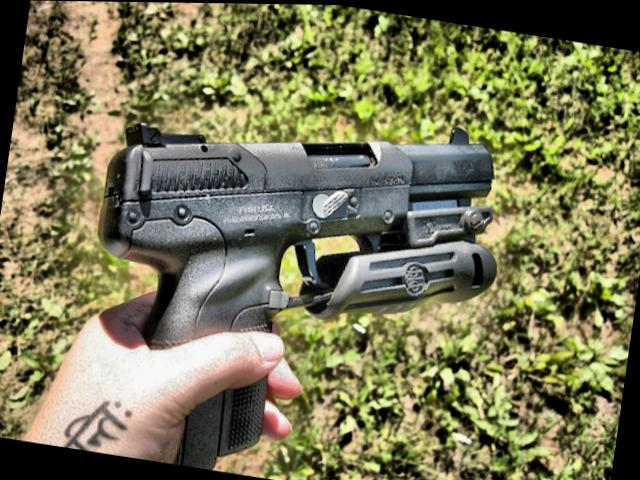pistol: (65, 73, 515, 480)
